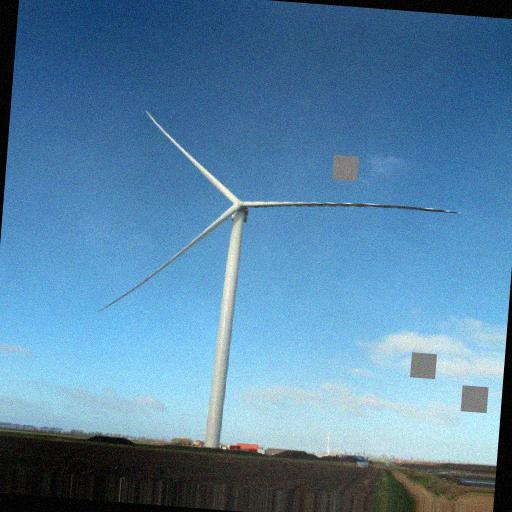wind turbine: (95, 109, 463, 450)
